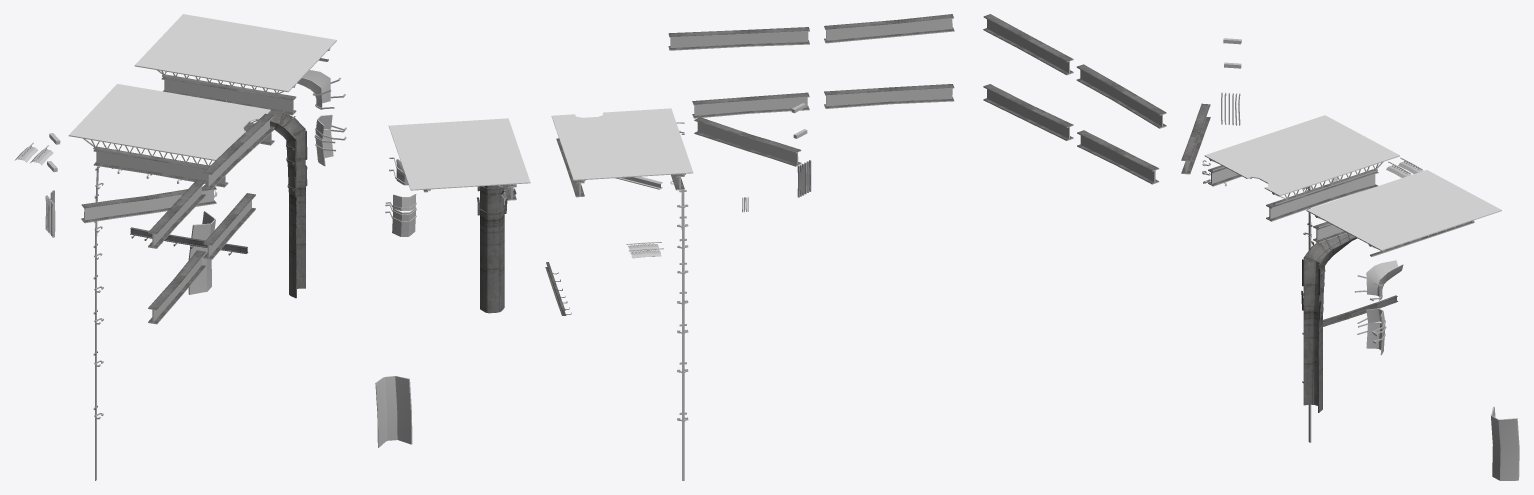
The model's file is CorridorSculpture_04.fbx.
The picture shows the model from 3 angles, left to right: view 1: azimuth 30°, elevation 25°; view 2: azimuth 150°, elevation 25°; view 3: azimuth 270°, elevation 25°; orthographic projection. The views are drawn at different scales.
Parts seen in each view (by area): view 1: CorridorSculpture_04; view 2: CorridorSculpture_04; view 3: CorridorSculpture_04.
Boxes of the visible parts, x1,y1,x2,y2 form: CorridorSculpture_04: [14, 14, 346, 480]; CorridorSculpture_04: [375, 14, 954, 480]; CorridorSculpture_04: [983, 14, 1519, 480].
Size of the model in its own units: 3398 by 3220 by 4187.
